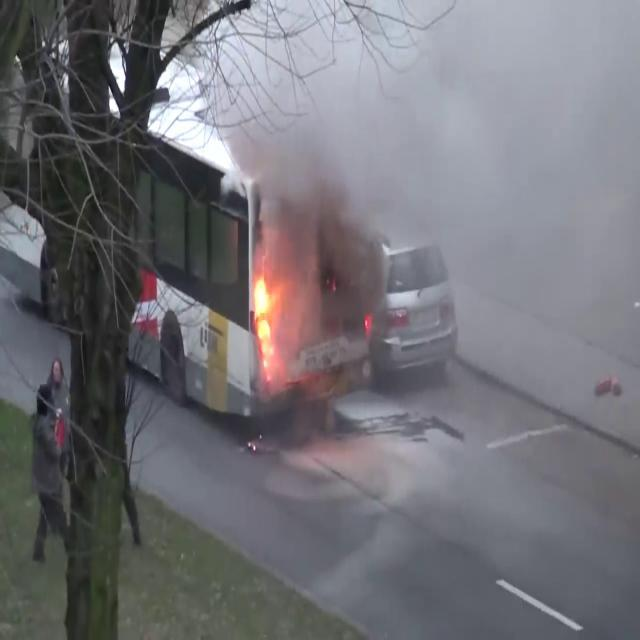Fire: (250, 257, 284, 371)
Smoke: (195, 0, 630, 322)
